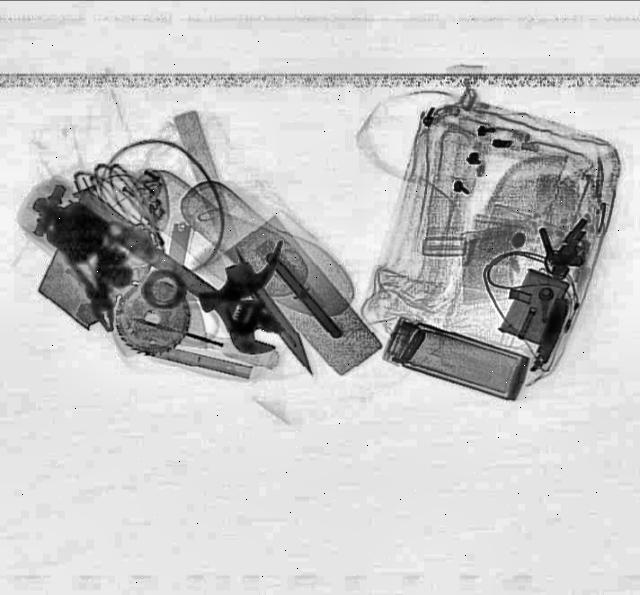Wrench: (85, 203, 297, 365)
